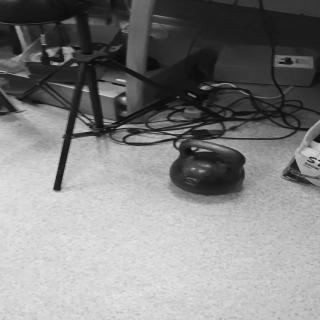kettlebell: (169, 139, 248, 197)
